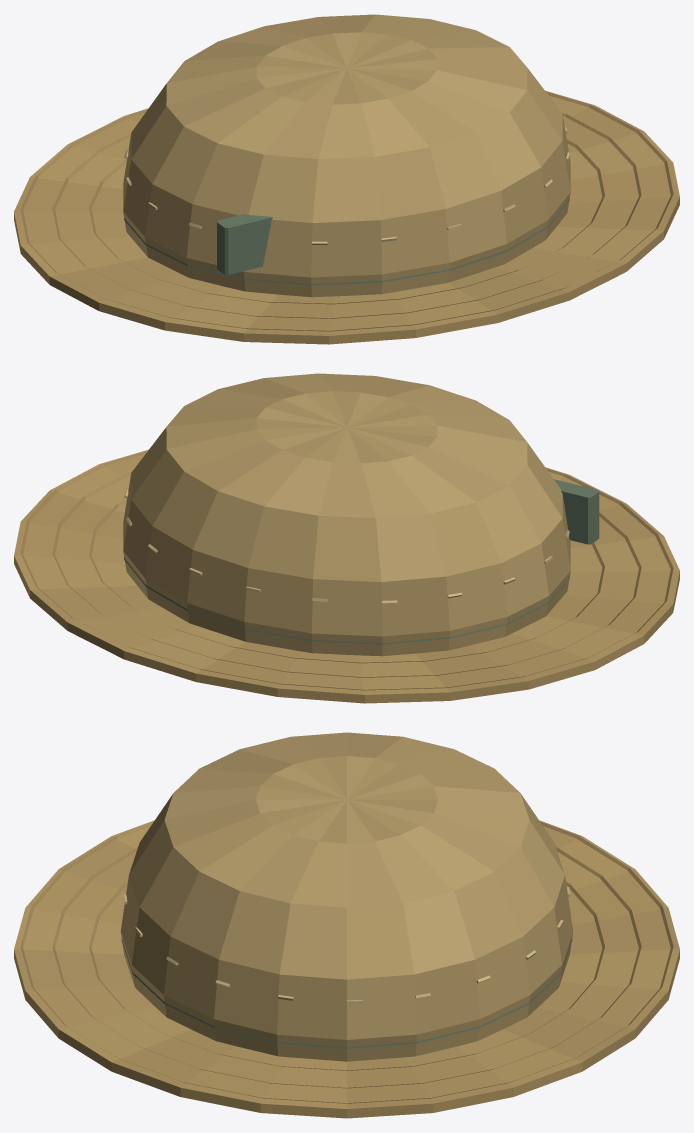
Rendered from hat_straw.glb.
3 renders of one model, top to bottom at view 1: azimuth 30°, elevation 25°; view 2: azimuth 150°, elevation 25°; view 3: azimuth 270°, elevation 25°, orthographic. The views are drawn at different scales.
Visible parts, largest first — view 1: hat_straw; view 2: hat_straw; view 3: hat_straw.
Boxes of the visible parts, x1,y1,x2,y2 form: hat_straw: (14,14,679,344); hat_straw: (14,373,679,703); hat_straw: (14,732,679,1118).
Size of the model in its own units: 0.73 by 0.18 by 0.6424.
